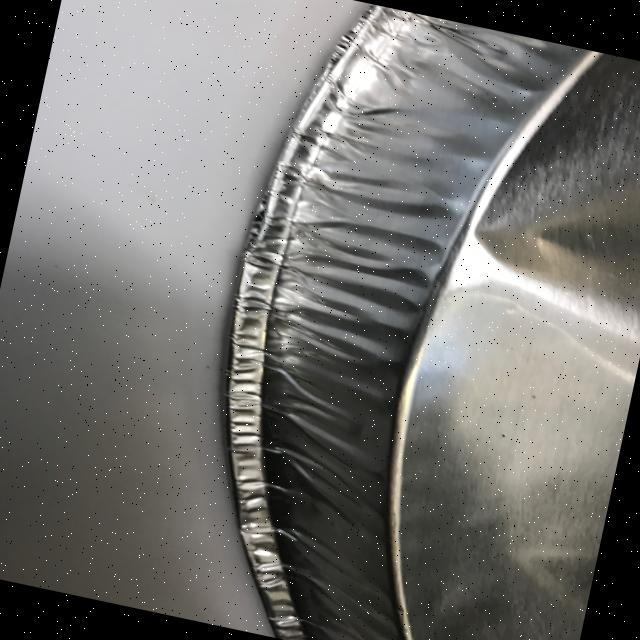metal: (87, 0, 640, 640)
